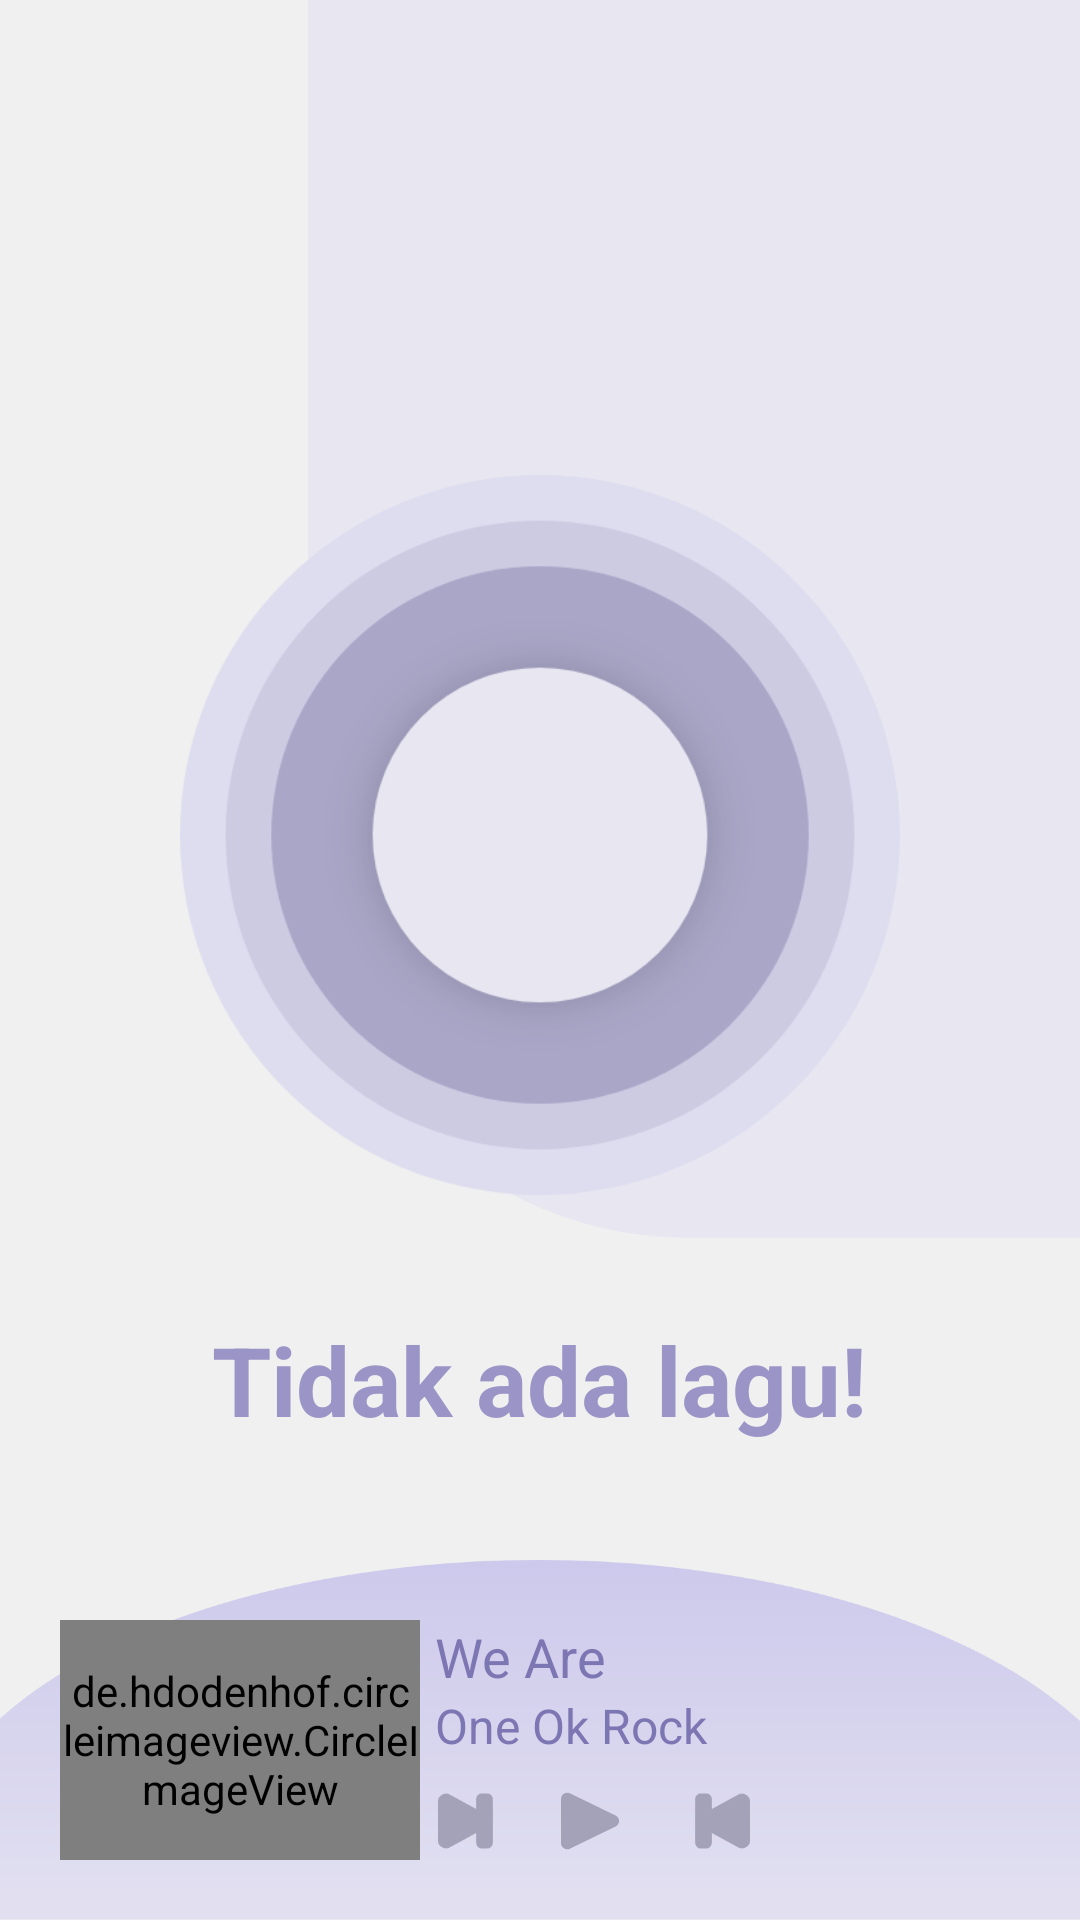

Named icons in this screenshot (1080×1920) and their centers, (x,y):
notif play: (590,1821)
